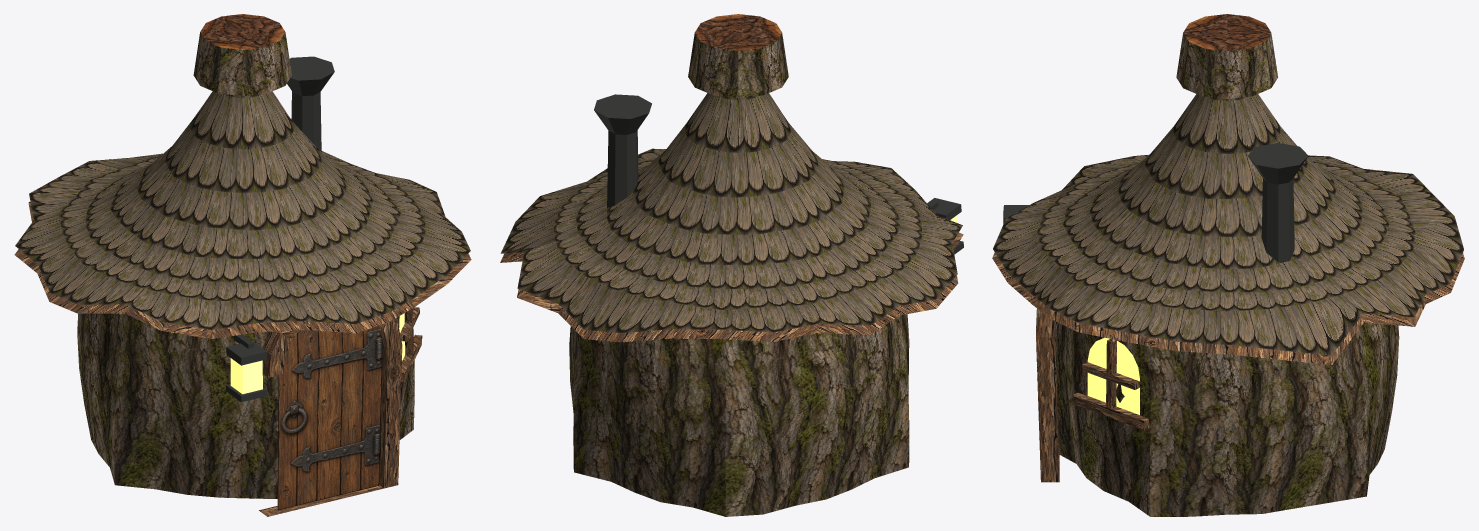
The model's file is house-mixed-02.glb.
3 renders of one model, left to right at view 1: azimuth 30°, elevation 25°; view 2: azimuth 150°, elevation 25°; view 3: azimuth 270°, elevation 25°, orthographic. The views are drawn at different scales.
Visible parts, largest first — view 1: roof, walls, door, door_frame, roof_under, top_stump, chimney, top_cut, lantern_cage, lantern_glass, window_frame; view 2: roof, walls, roof_under, top_stump, chimney, top_cut; view 3: roof, walls, roof_under, top_stump, chimney, door_frame, top_cut, window_frame, window.
Boxes of the visible parts, x1=… form: roof: x1=15, y1=91, x2=470, y2=329; walls: x1=77, y1=313, x2=414, y2=498; door: x1=277, y1=326, x2=383, y2=510; door_frame: x1=259, y1=319, x2=402, y2=516; roof_under: x1=14, y1=202, x2=471, y2=339; top_stump: x1=193, y1=32, x2=291, y2=96; chimney: x1=287, y1=56, x2=334, y2=151; top_cut: x1=200, y1=14, x2=285, y2=49; lantern_cage: x1=226, y1=340, x2=267, y2=402; lantern_glass: x1=230, y1=358, x2=262, y2=394; window_frame: x1=400, y1=307, x2=422, y2=381; roof: x1=500, y1=93, x2=962, y2=332; walls: x1=569, y1=314, x2=909, y2=516; roof_under: x1=500, y1=232, x2=963, y2=342; top_stump: x1=688, y1=33, x2=788, y2=98; chimney: x1=594, y1=94, x2=651, y2=207; top_cut: x1=695, y1=14, x2=781, y2=50; roof: x1=993, y1=94, x2=1463, y2=355; walls: x1=1055, y1=321, x2=1399, y2=516; roof_under: x1=992, y1=252, x2=1464, y2=364; top_stump: x1=1176, y1=33, x2=1277, y2=98; chimney: x1=1248, y1=143, x2=1308, y2=261; door_frame: x1=1036, y1=308, x2=1059, y2=482; top_cut: x1=1183, y1=14, x2=1271, y2=51; window_frame: x1=1073, y1=339, x2=1149, y2=430; window: x1=1087, y1=337, x2=1139, y2=414.
Bounding box in the file's own units: 2.73 × 2.72 × 2.78.
Materials: 7 (5 with a texture image).
